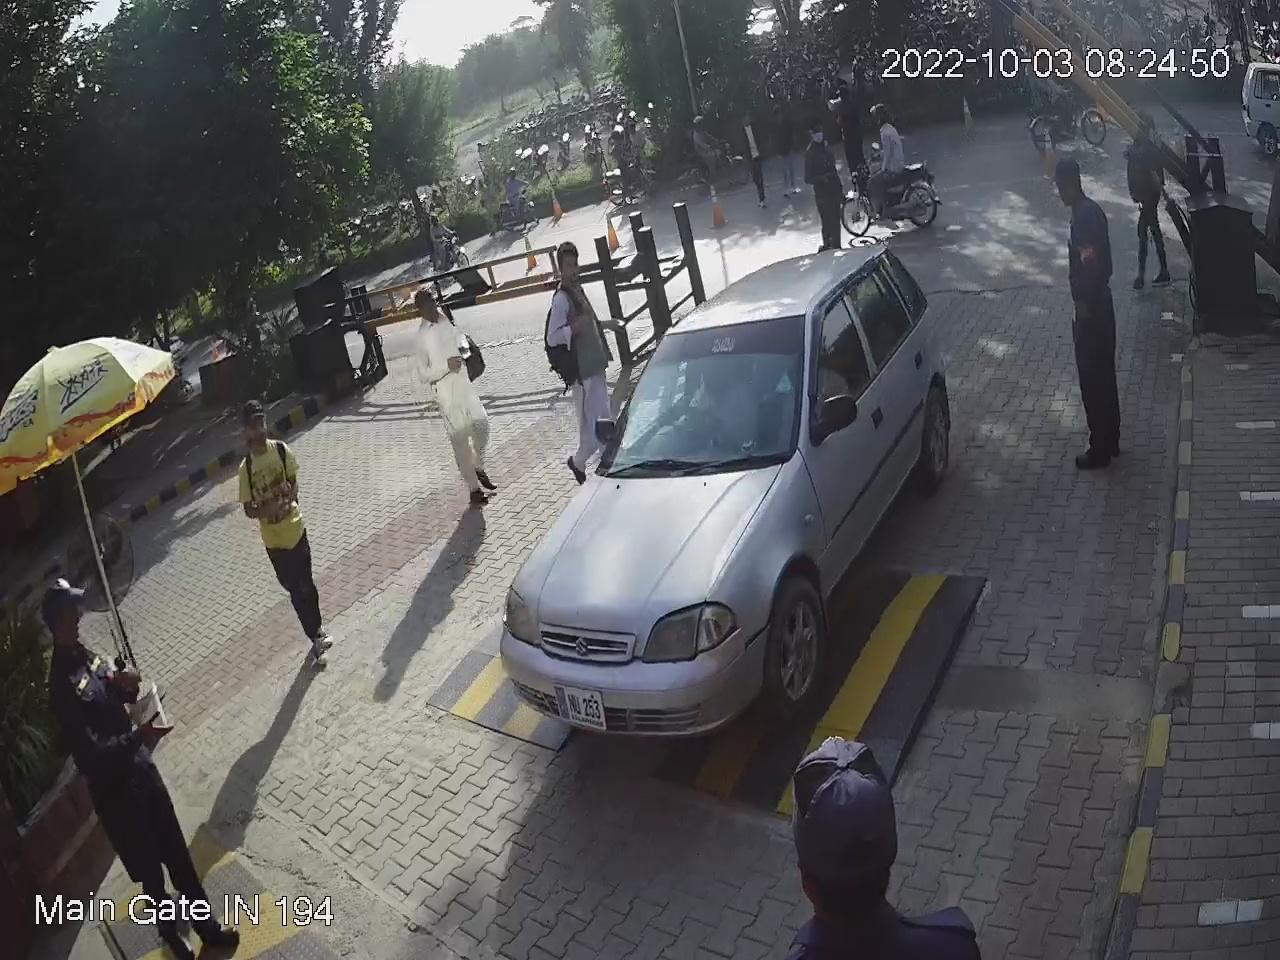windshield: (598, 310, 810, 475)
